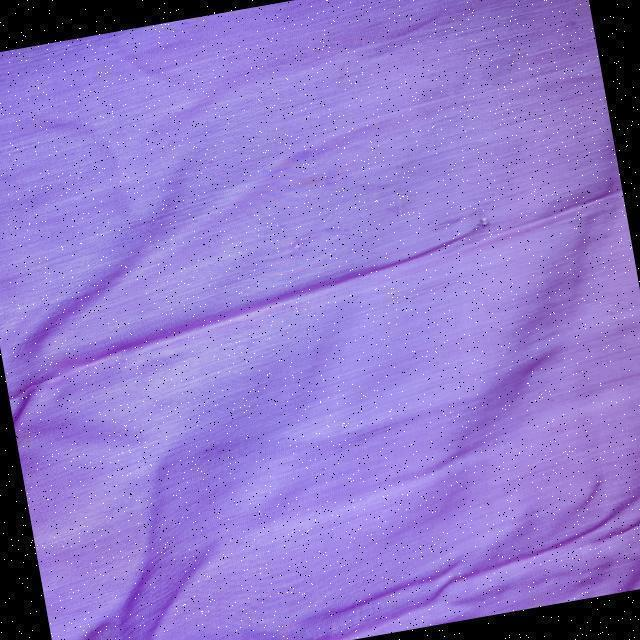broken_yarn: (14, 184, 614, 396)
